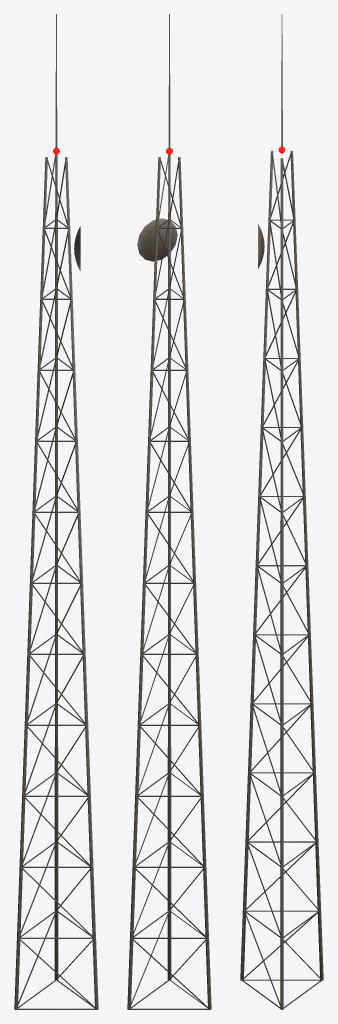
Rendered from pike_ridge_antenna.glb.
3 renders of one model, left to right at view 1: azimuth 90°, elevation 25°; view 2: azimuth 210°, elevation 25°; view 3: azimuth 270°, elevation 25°, orthographic.
Parts seen in each view (by area): view 1: antenna_tower_LOD0; view 2: antenna_tower_LOD0; view 3: antenna_tower_LOD0.
Part boxes in pixels (x1,y1,x2,y2): antenna_tower_LOD0: [14, 14, 98, 1009]; antenna_tower_LOD0: [127, 14, 211, 1009]; antenna_tower_LOD0: [240, 14, 323, 1009].
Size of what is drawn, in the model's own units: 1.41 by 21.01 by 1.63.
